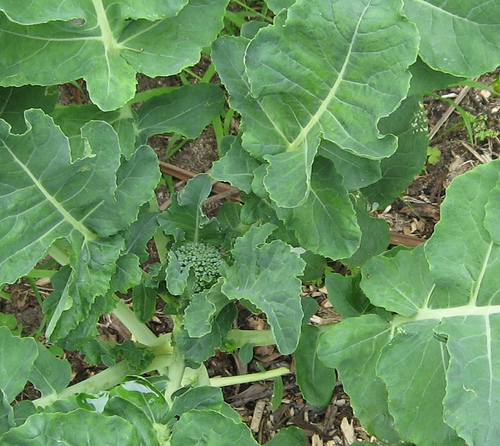broccoli: (162, 237, 229, 306)
